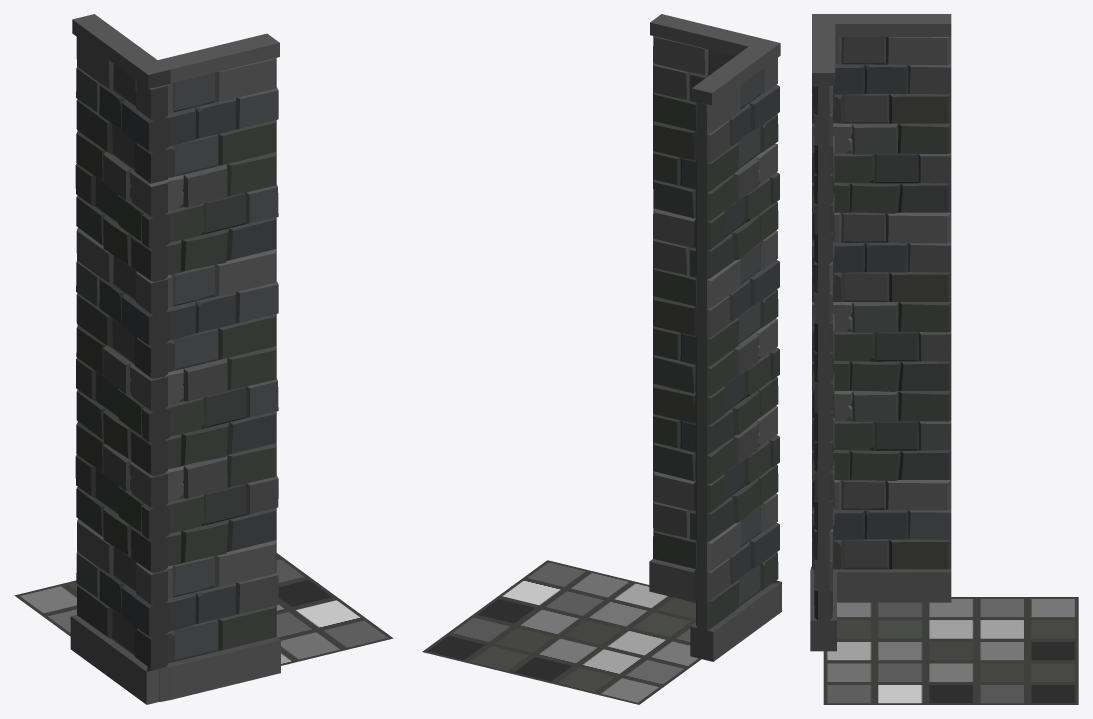
File: Dungeon_Tilemap_90_degree_corners_2.fbx
3 renders of one model, left to right at view 1: azimuth 30°, elevation 25°; view 2: azimuth 150°, elevation 25°; view 3: azimuth 270°, elevation 25°, orthographic. The views are drawn at different scales.
Visible parts, largest first — view 1: Dungeon_Tilemap_90 degree corners_2; view 2: Dungeon_Tilemap_90 degree corners_2; view 3: Dungeon_Tilemap_90 degree corners_2.
Part boxes in pixels (x1,y1,x2,y2): Dungeon_Tilemap_90 degree corners_2: (14, 14, 393, 704); Dungeon_Tilemap_90 degree corners_2: (422, 14, 781, 704); Dungeon_Tilemap_90 degree corners_2: (810, 14, 1078, 704).
Bounding box in the file's own units: 105 × 250 × 105.
